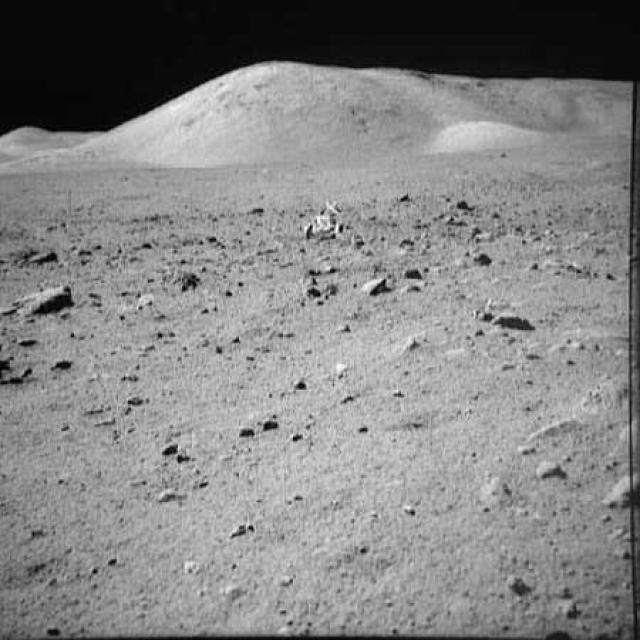artifact: (297, 196, 352, 239)
rock: (4, 277, 78, 320), (604, 458, 638, 511), (0, 348, 37, 389), (351, 274, 399, 302), (162, 268, 199, 299), (489, 303, 528, 332), (530, 460, 568, 482)
